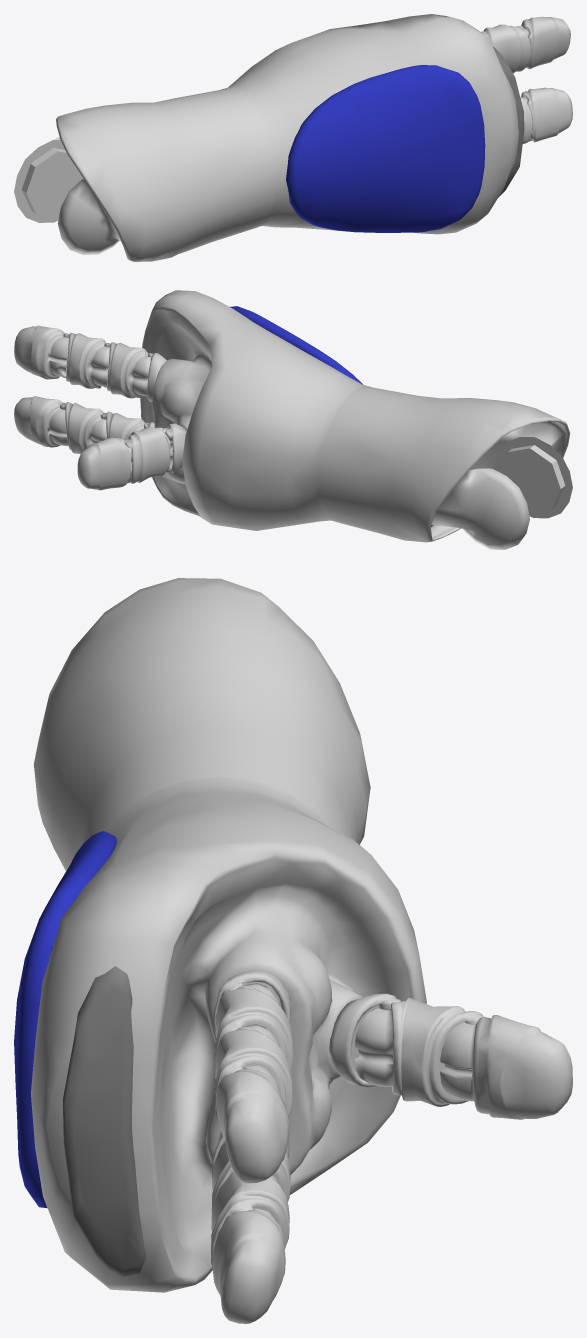
The model's file is LElbowRoll.dae.
3 views of the same model, one above another, from view 1: azimuth 30°, elevation 25°; view 2: azimuth 150°, elevation 25°; view 3: azimuth 270°, elevation 25° (orthographic). The views are drawn at different scales.
Parts seen in each view (by area): view 1: root_005; view 2: root_005; view 3: root_005.
Boxes of the visible parts, bbox=[...] form: root_005: bbox=[14, 14, 572, 261]; root_005: bbox=[14, 290, 572, 549]; root_005: bbox=[14, 578, 572, 1323].
Size of the model in its own units: 186 by 85.28 by 68.29.
